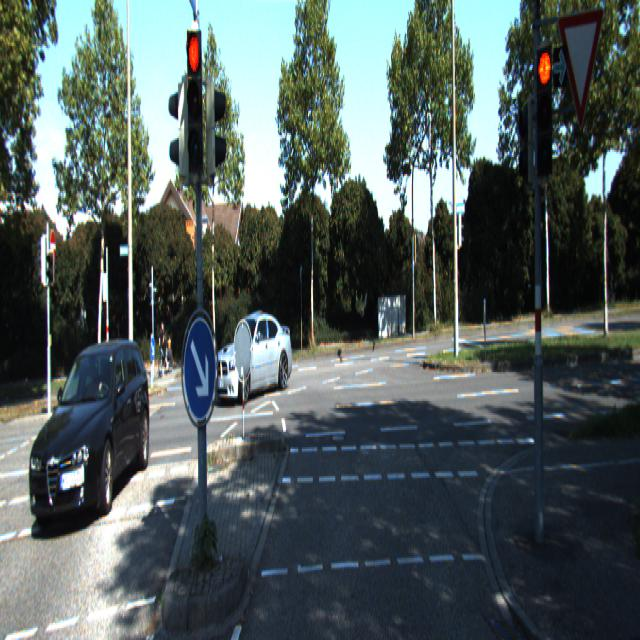Car: (26, 331, 154, 534), (210, 309, 294, 408)
